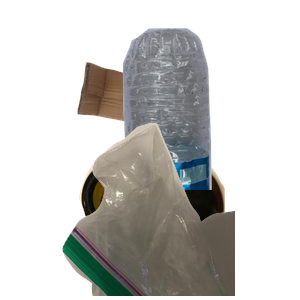cardboard: (75, 59, 237, 176)
glass: (77, 147, 295, 300)
plastic: (111, 26, 300, 206)
trash: (60, 120, 300, 300)
